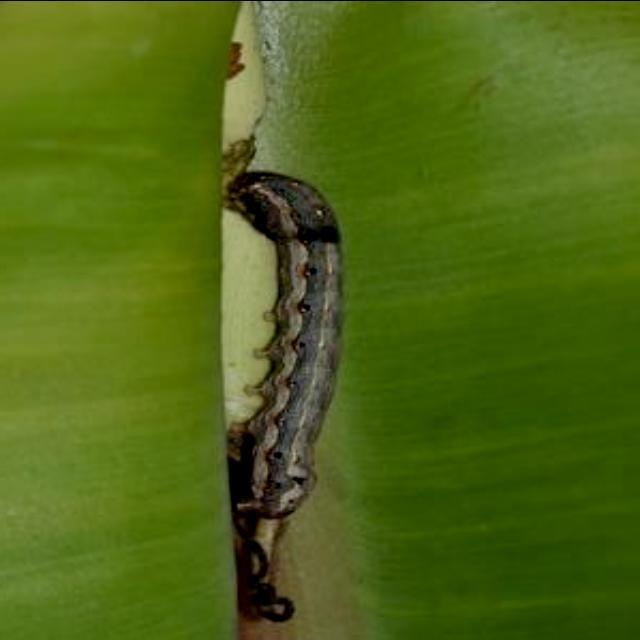Tobacco cutworm: (168, 100, 392, 546)
